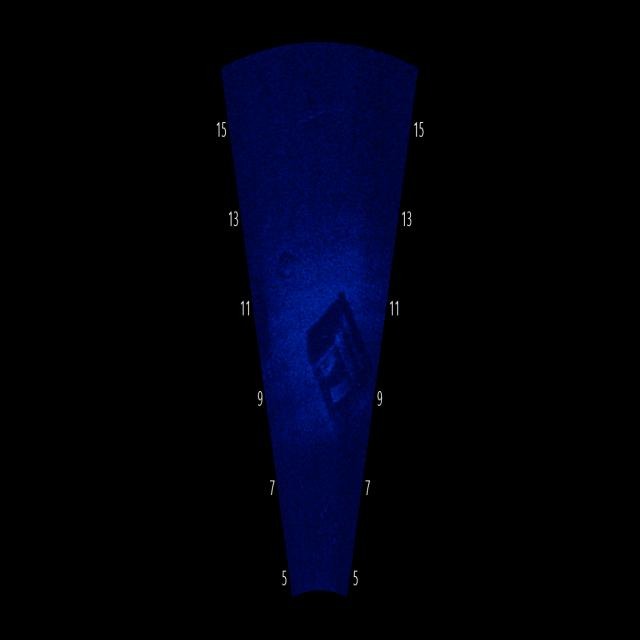square: (300, 281, 380, 438)
